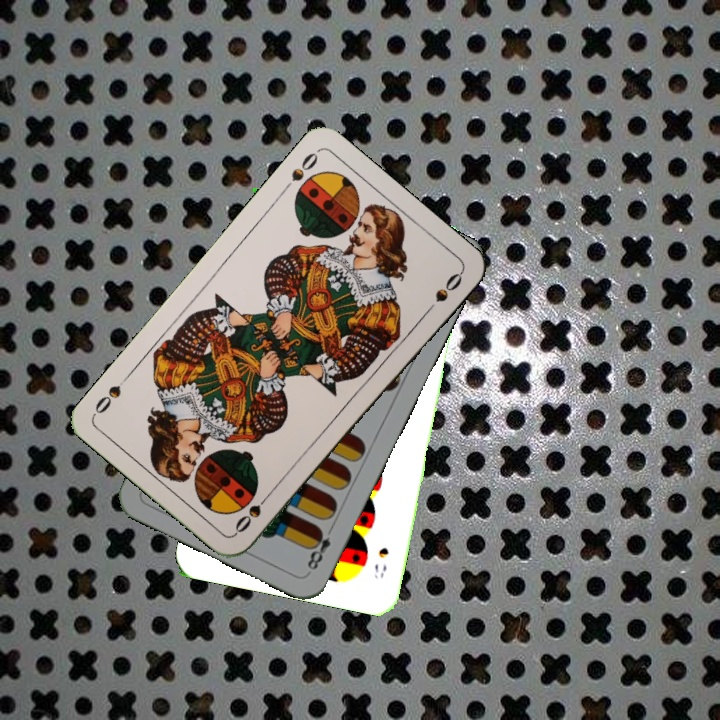E8: (303, 521, 337, 573)
S8: (369, 543, 391, 582)
SO: (230, 487, 275, 536), (287, 147, 321, 184)
